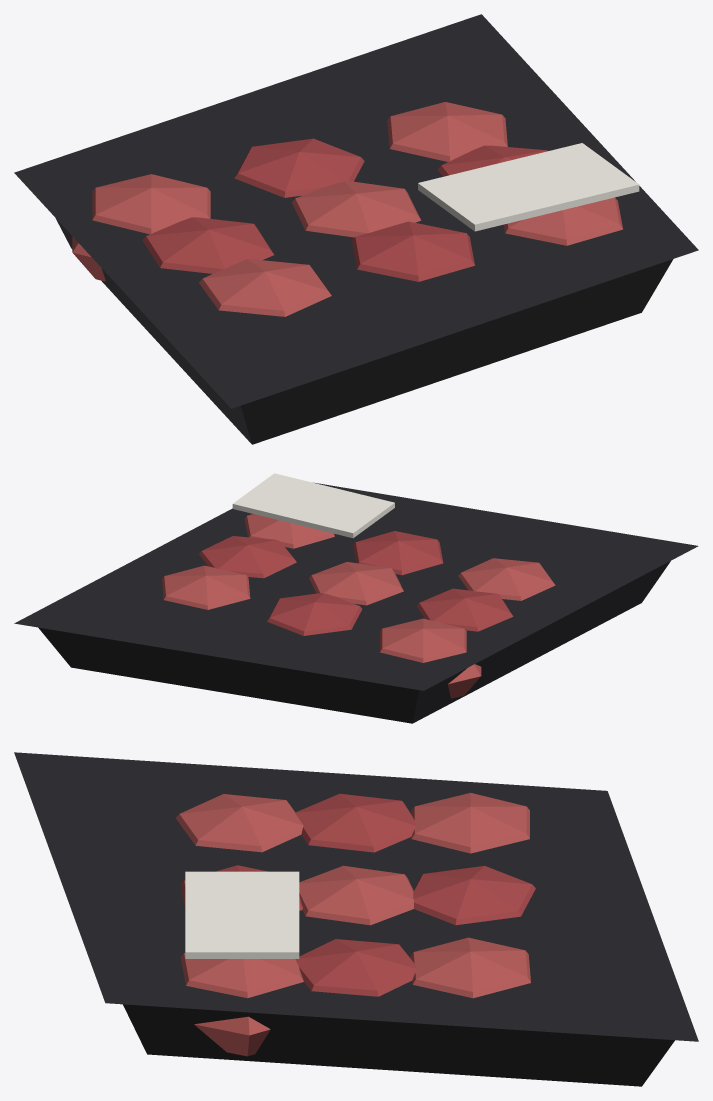
Rendered from g-mince.glb.
3 renders of one model, top to bottom at view 1: azimuth 30°, elevation 25°; view 2: azimuth 150°, elevation 25°; view 3: azimuth 270°, elevation 25°, orthographic. The views are drawn at different scales.
Visible parts, largest first — view 1: g_mince; view 2: g_mince; view 3: g_mince.
Part boxes in pixels (x1,y1,x2,y2): g_mince: (14, 14, 698, 444); g_mince: (14, 473, 698, 723); g_mince: (14, 752, 698, 1086).
Size of the model in its own units: 0.18 by 0.0332 by 0.18.
